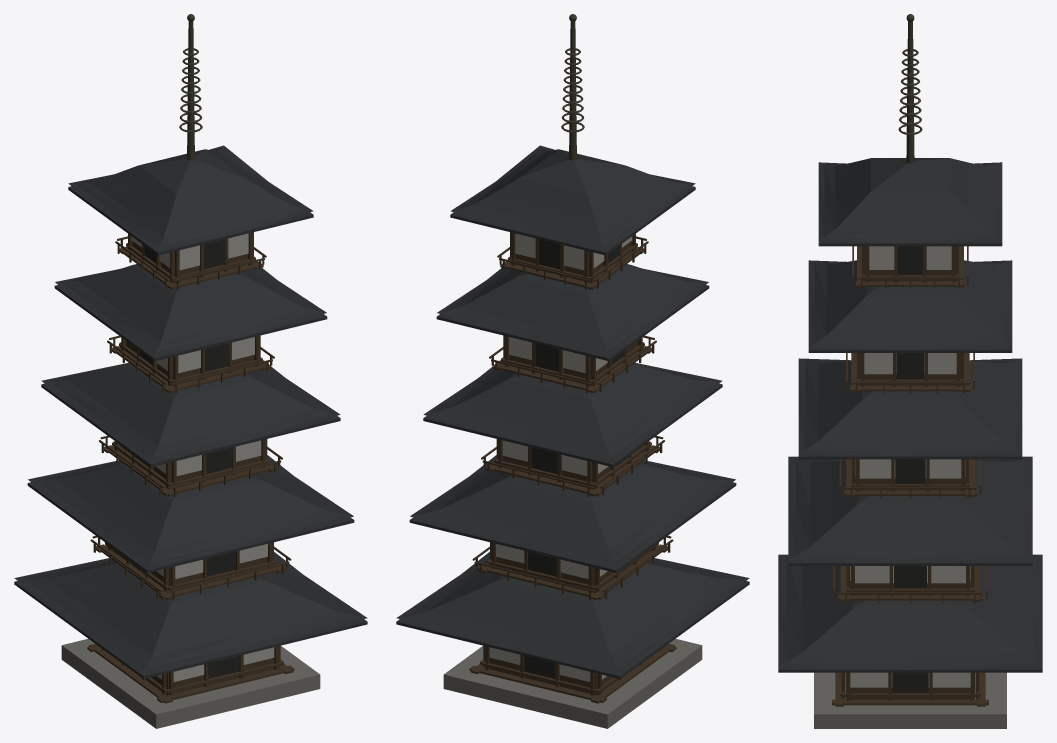
The model's file is toji.glb.
3 renders of one model, left to right at view 1: azimuth 30°, elevation 25°; view 2: azimuth 150°, elevation 25°; view 3: azimuth 270°, elevation 25°, orthographic. The views are drawn at different scales.
Bounding box in the file's own units: 19.48 × 54.8 × 19.48.
